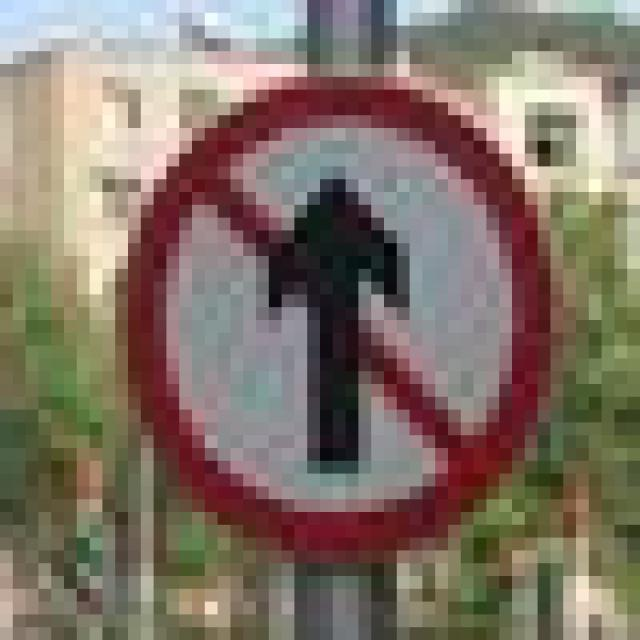straight prohibited: (122, 74, 545, 558)
